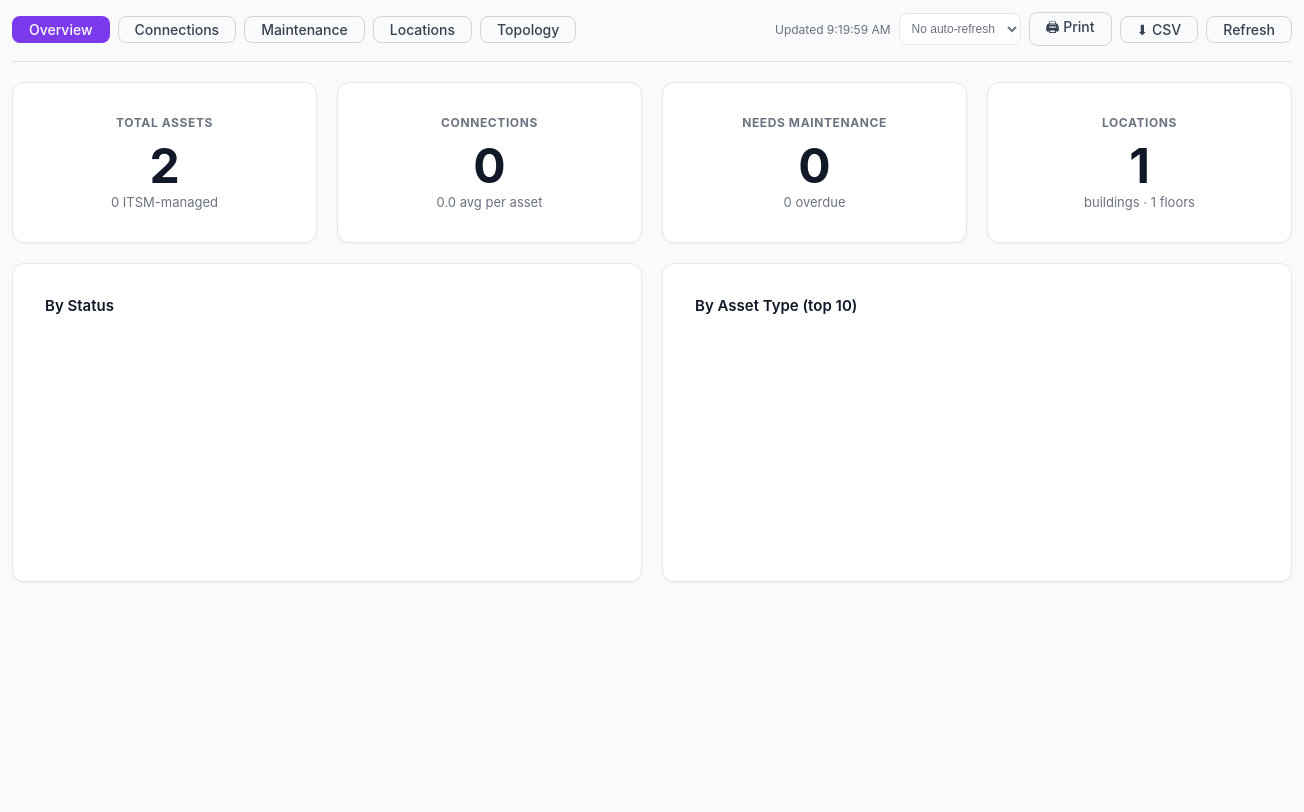
AssetReports â€” Topology filters › Show Isolated toggle changes state
Expected: the heading "Total Assets" is shown, [116,115,213,130]
Click the button "Topology" at {"x": 528, "y": 29}, box [480,16,576,42]
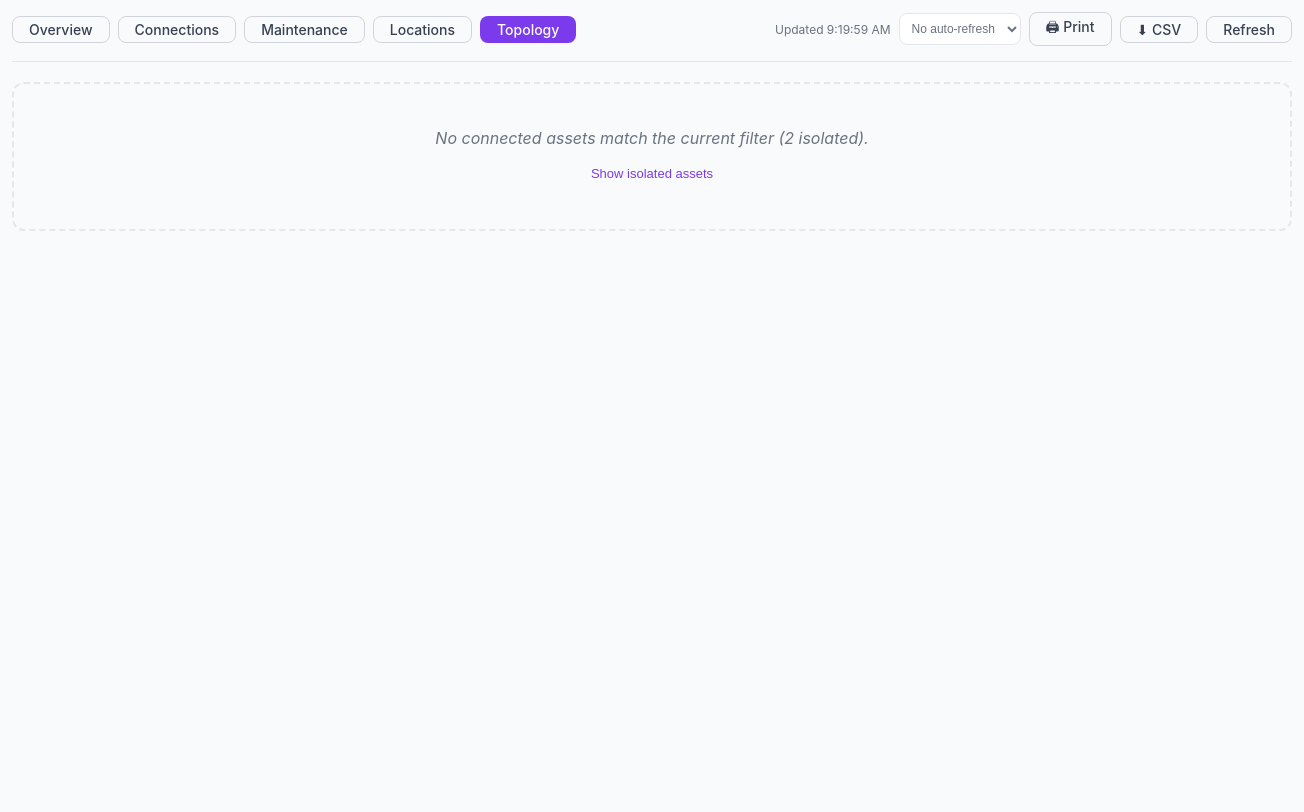
Click the button "Show isolated assets" at {"x": 652, "y": 174}, box [34,158,1270,189]
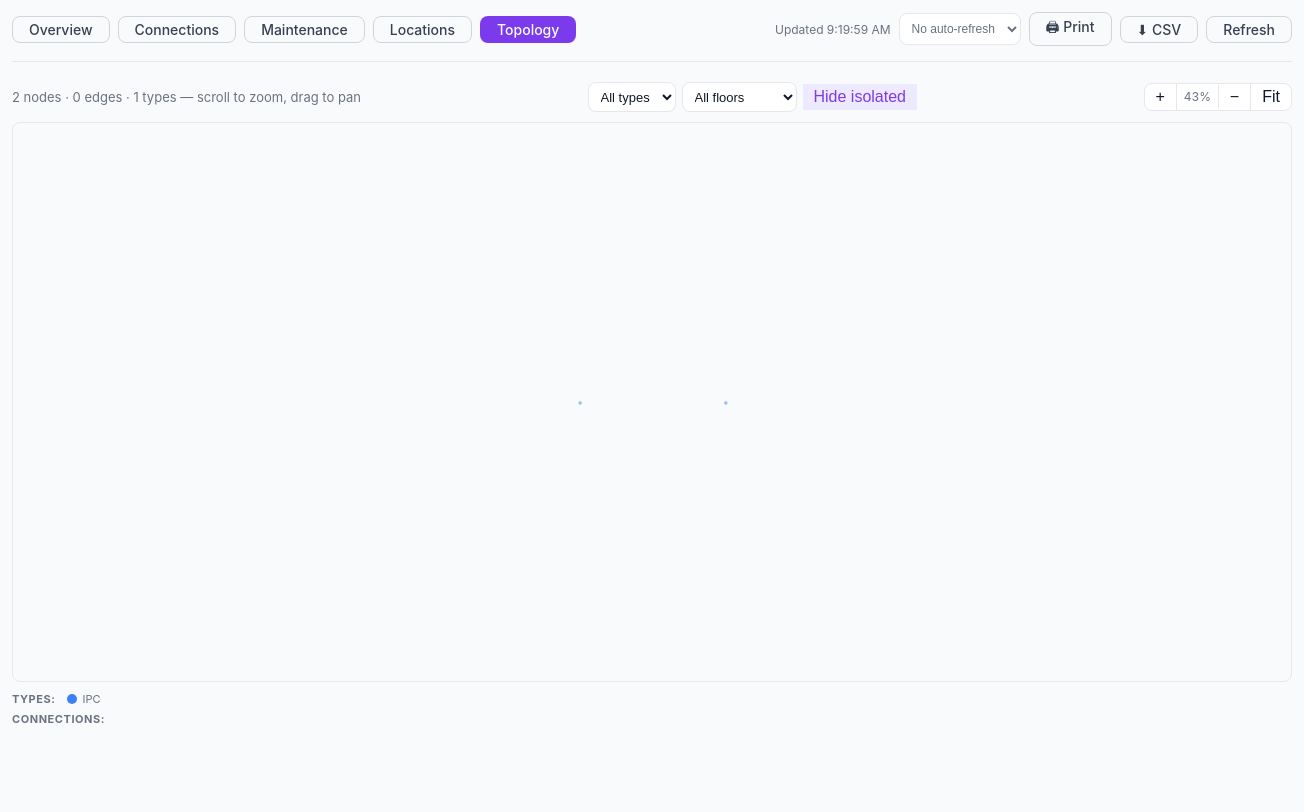
Expected: the button "Hide isolated" is shown, [802,84,917,110]
